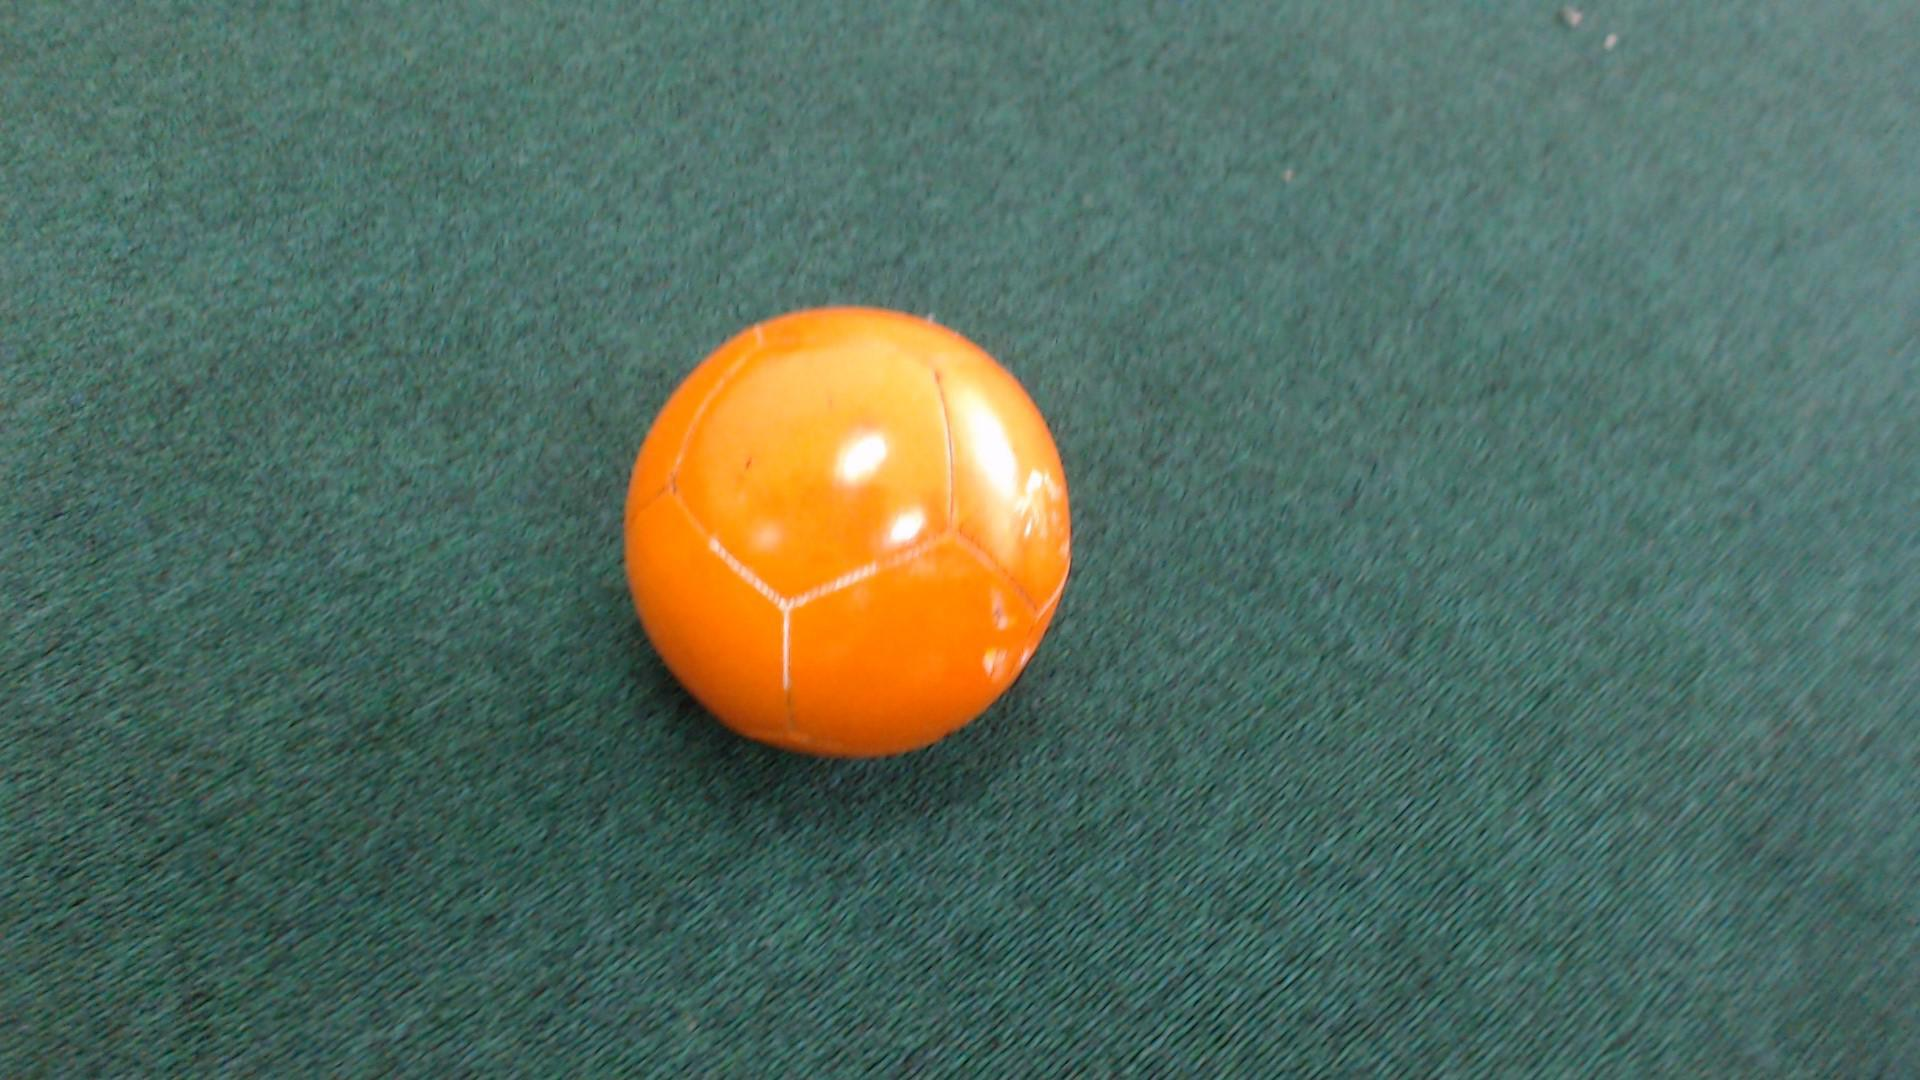bola: (584, 256, 1150, 803)
